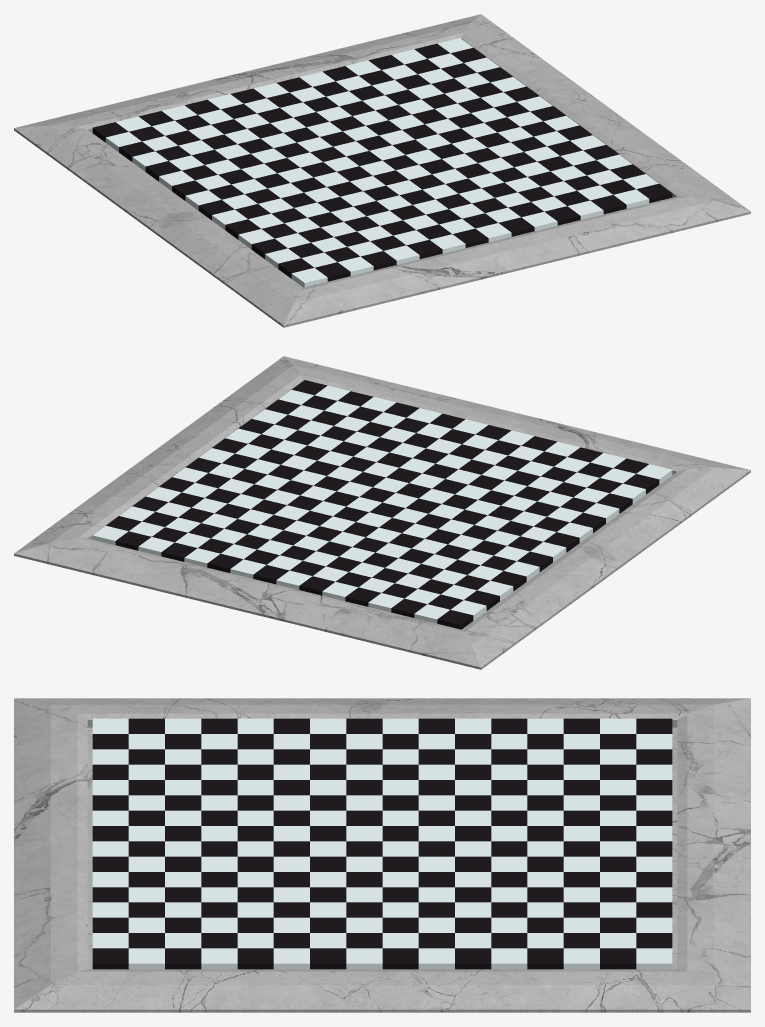
File: double-board.gltf
3 renders of one model, top to bottom at view 1: azimuth 30°, elevation 25°; view 2: azimuth 150°, elevation 25°; view 3: azimuth 270°, elevation 25°, orthographic. The views are drawn at different scales.
Parts seen in each view (by area): view 1: Frame 02.002, Board.003, Board.003_White Square.012_0.001, Board.003_Black Square.010_0.001, Board.003_White Square.012_0.003, Board.003_Black Square.010_0.003, Board.003_Black Square.010_0.002, Board.003_White Square.012_0.002; view 2: Frame 02.002, Board.003, Board.003_White Square.012_0.003, Board.003_Black Square.010_0.003, Board.003_Black Square.010_0.002, Board.003_White Square.012_0.002, Board.003_White Square.012_0.001, Board.003_Black Square.010_0.001; view 3: Frame 02.002, Board.003, Board.003_White Square.012_0.001, Board.003_Black Square.010_0.001, Board.003_Black Square.010_0.002, Board.003_White Square.012_0.002, Board.003_Black Square.010_0.003, Board.003_White Square.012_0.003.
Boxes of the visible parts, x1,y1,x2,y2 form: Frame 02.002: (14,14,750,327); Board.003: (198,160,488,287); Board.003_White Square.012_0.001: (396,115,658,242); Board.003_Black Square.010_0.001: (383,121,672,236); Board.003_White Square.012_0.003: (105,83,368,210); Board.003_Black Square.010_0.003: (92,88,381,200); Board.003_Black Square.010_0.002: (276,43,565,154); Board.003_White Square.012_0.002: (290,38,552,160); Frame 02.002: (14,356,750,669); Board.003: (383,425,672,552); Board.003_White Square.012_0.003: (276,508,566,623); Board.003_Black Square.010_0.003: (290,502,552,629); Board.003_Black Square.010_0.002: (106,457,368,584); Board.003_White Square.012_0.002: (92,463,381,578); Board.003_White Square.012_0.001: (199,385,488,496); Board.003_Black Square.010_0.001: (212,380,474,502); Frame 02.002: (14,698,750,1012); Board.003: (92,718,382,841); Board.003_White Square.012_0.001: (92,841,382,969); Board.003_Black Square.010_0.001: (92,841,382,969); Board.003_Black Square.010_0.002: (382,841,672,969); Board.003_White Square.012_0.002: (382,841,672,969); Board.003_Black Square.010_0.003: (382,718,672,841); Board.003_White Square.012_0.003: (382,718,672,841).
Size of the model in its own units: 122 by 2.89 by 122.
3 materials, 1 textured.
